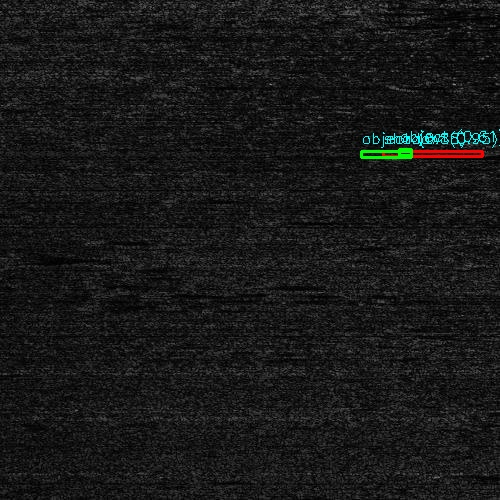rock: (349, 152, 412, 157)
shadow: (381, 152, 471, 157)
